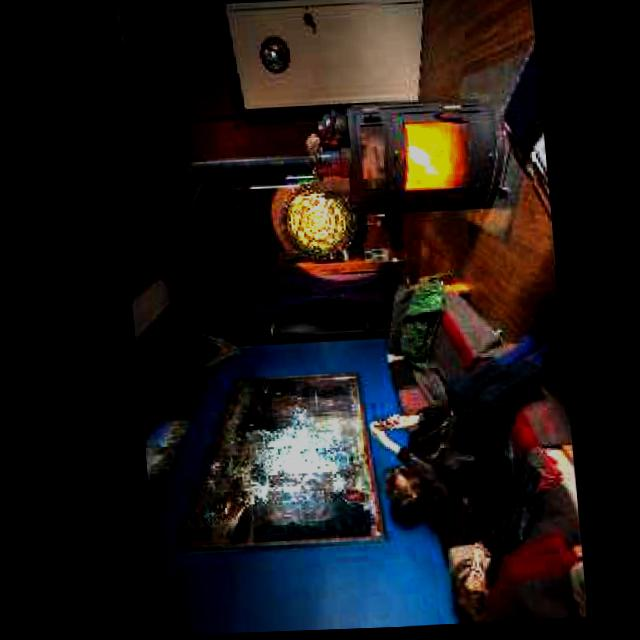helmet: (399, 129, 450, 192)
